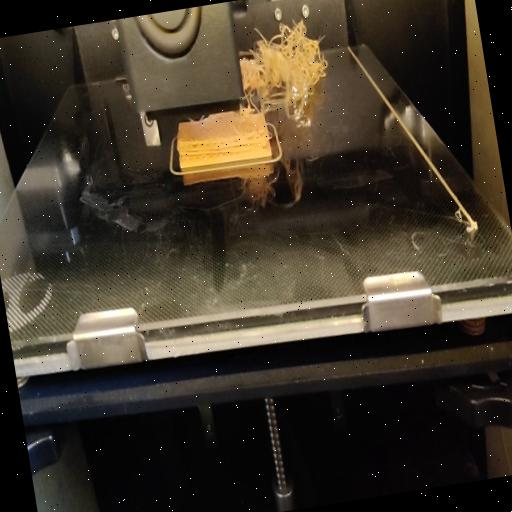spaghetti: (235, 14, 336, 124)
